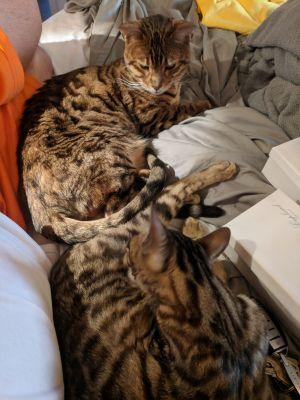bengal: (114, 13, 202, 103)
